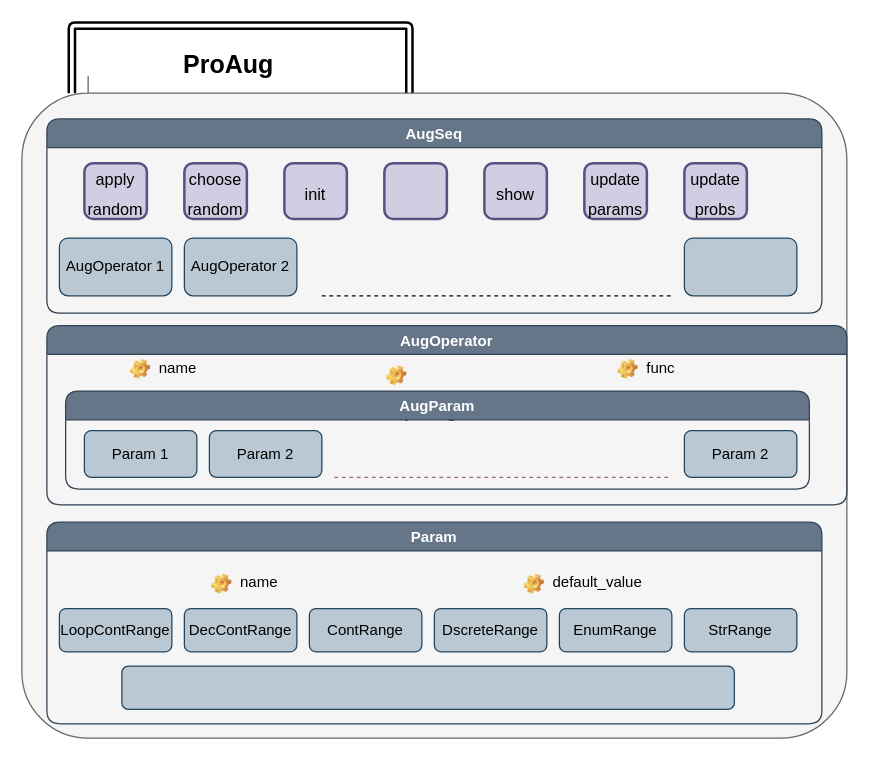
Some shapes in this 869 by 760 pixel diagram are drawn without their labels. Here are the shapes that lost their labels. From the top down, the centre of each, then its label:
point 415,190: operator
point 740,266: AugOperator m
point 453,375: probability
point 427,687: AbstractRange
